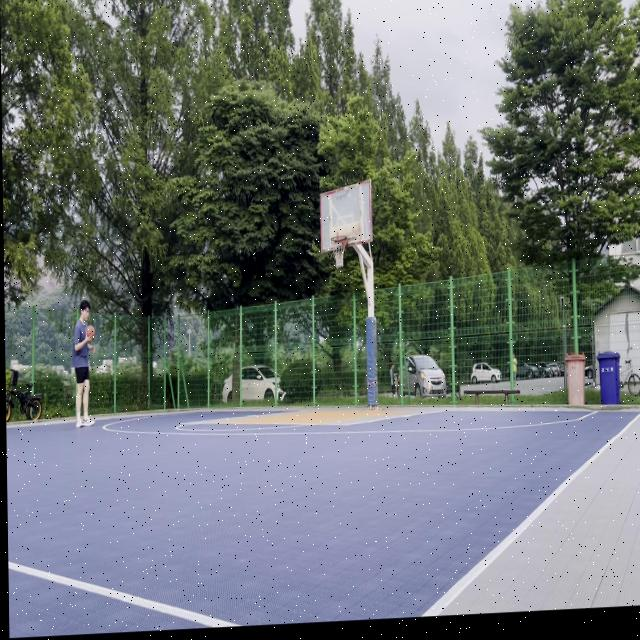basketball: (85, 324, 95, 343)
hoop: (330, 235, 348, 271)
